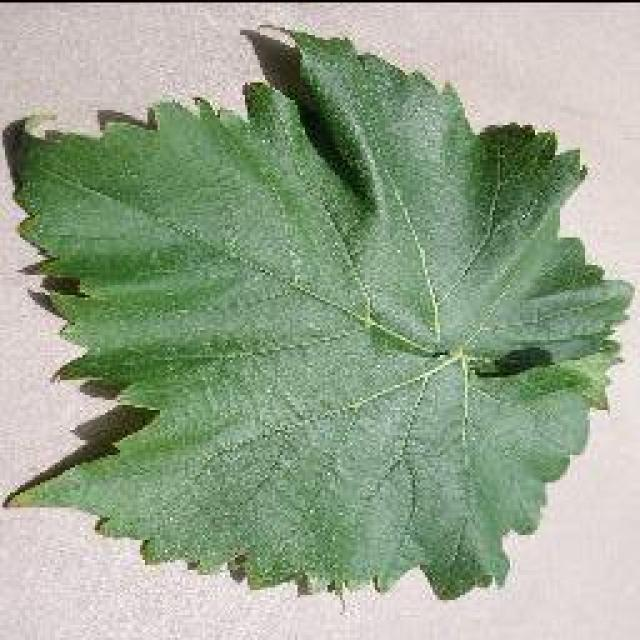Grape___healthy: (12, 30, 630, 595)
